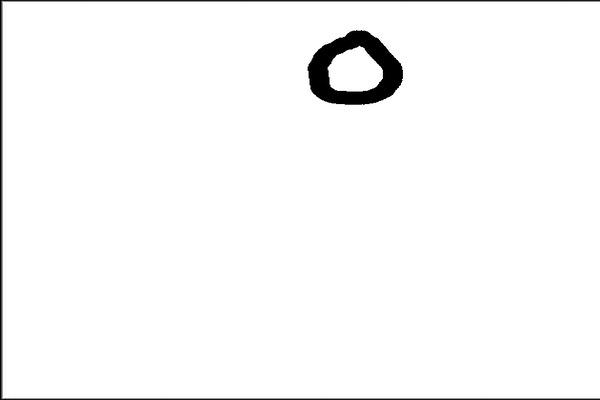O: (300, 18, 412, 115)
